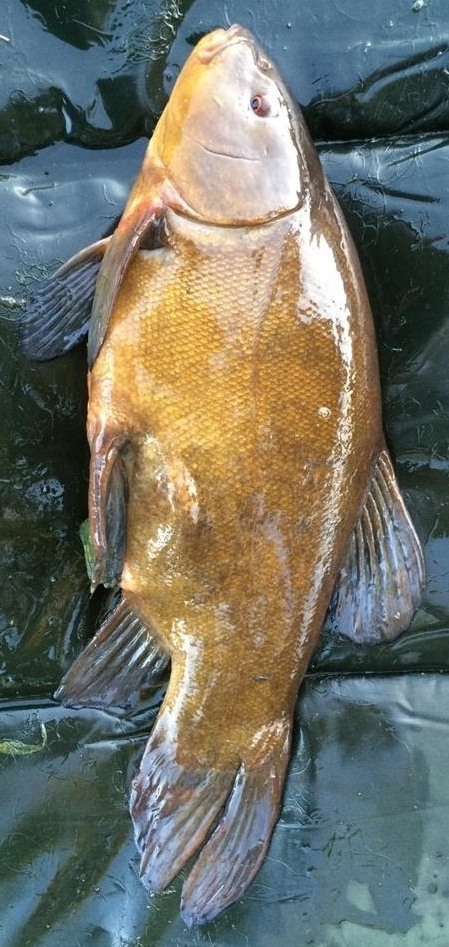Tinca tinca: (20, 20, 429, 927)
